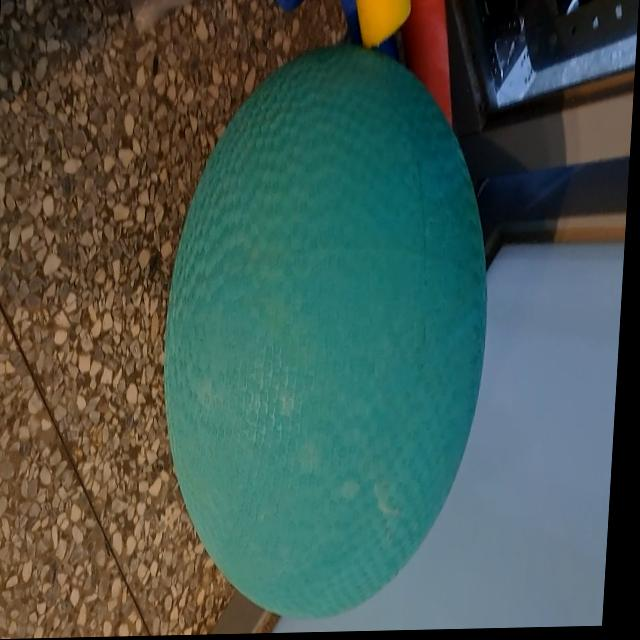ALGAE: (147, 43, 506, 635)
